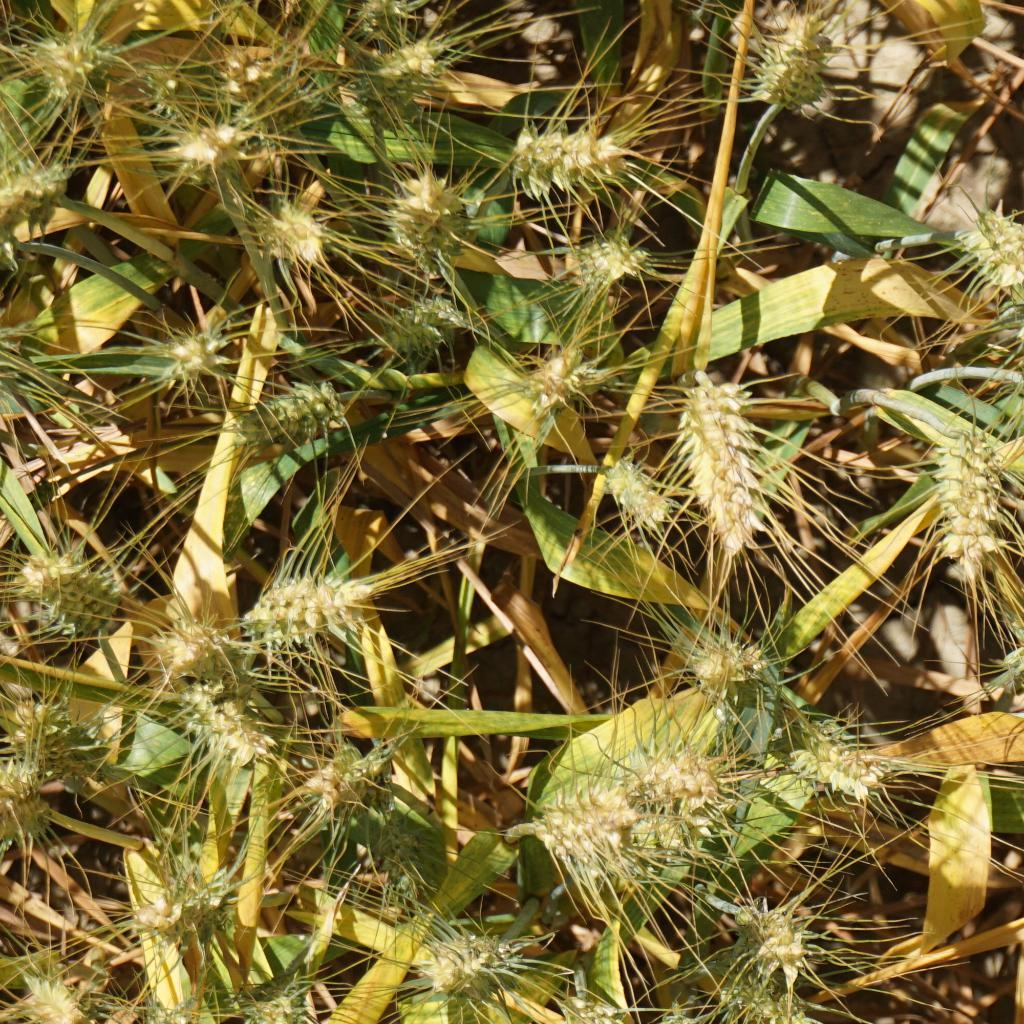0-0: (668, 367, 768, 563), (522, 784, 688, 888), (283, 730, 408, 833), (781, 712, 894, 819), (10, 535, 123, 641), (0, 686, 113, 791), (930, 432, 1007, 584), (508, 128, 643, 210), (243, 572, 371, 654), (26, 13, 133, 108), (245, 370, 356, 460), (174, 686, 290, 768), (140, 599, 242, 692), (751, 9, 835, 120), (408, 924, 519, 1007), (135, 843, 222, 934), (0, 945, 99, 1024), (382, 275, 465, 366), (390, 168, 462, 268), (685, 627, 772, 701), (0, 751, 60, 856), (632, 747, 726, 811), (369, 22, 439, 107), (525, 335, 605, 409), (602, 445, 676, 525), (966, 197, 1024, 294), (729, 903, 814, 969), (373, 809, 429, 908), (564, 222, 650, 286), (155, 322, 231, 393), (729, 963, 817, 1024), (215, 24, 281, 103), (975, 582, 1024, 673), (544, 980, 644, 1024), (171, 120, 256, 171), (266, 203, 331, 269), (0, 171, 51, 248), (0, 198, 37, 296), (230, 974, 296, 1024), (137, 60, 201, 103), (135, 990, 204, 1024), (647, 1010, 716, 1024)
